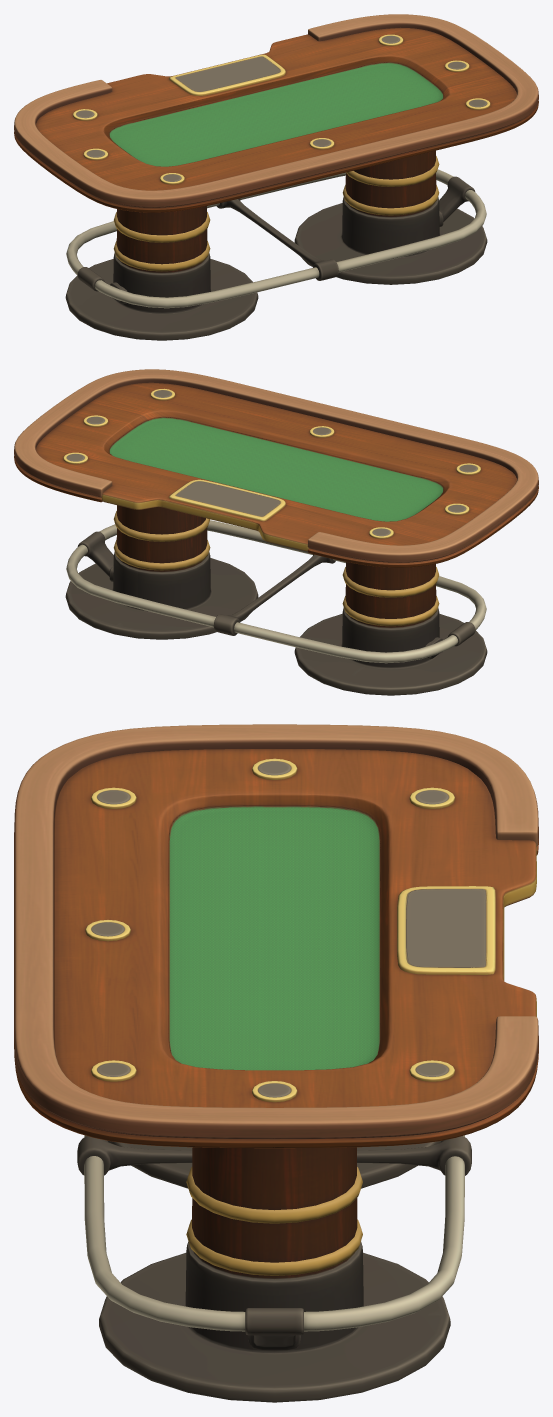
The model's file is PokerTable.glb.
3 views of the same model, one above another, from view 1: azimuth 30°, elevation 25°; view 2: azimuth 150°, elevation 25°; view 3: azimuth 270°, elevation 25° (orthographic). The views are drawn at different scales.
Visible parts, largest first — view 1: PokerTable; view 2: PokerTable; view 3: PokerTable.
Part boxes in pixels (x1,y1,x2,y2): PokerTable: (14, 14, 538, 340); PokerTable: (14, 369, 538, 695); PokerTable: (14, 724, 538, 1402).
Size of the model in its own units: 2.94 by 1.04 by 1.63.
1 material, 1 textured.
